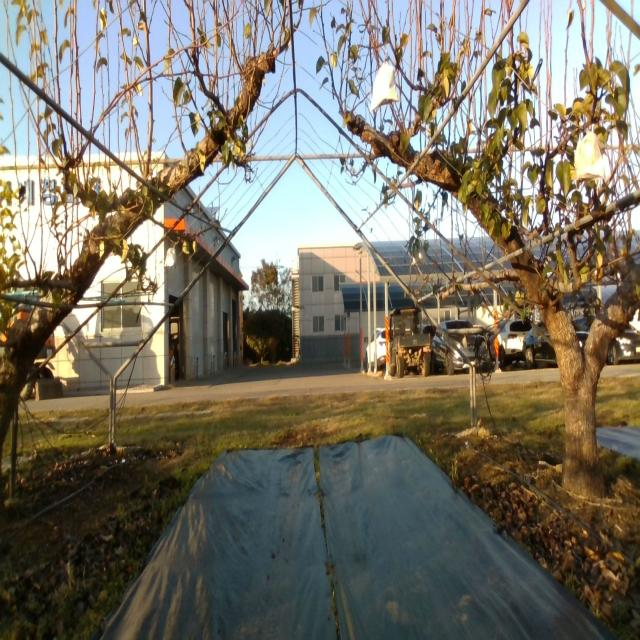pearbags: (368, 50, 399, 115), (574, 129, 607, 189), (412, 245, 428, 267), (164, 245, 176, 267)
